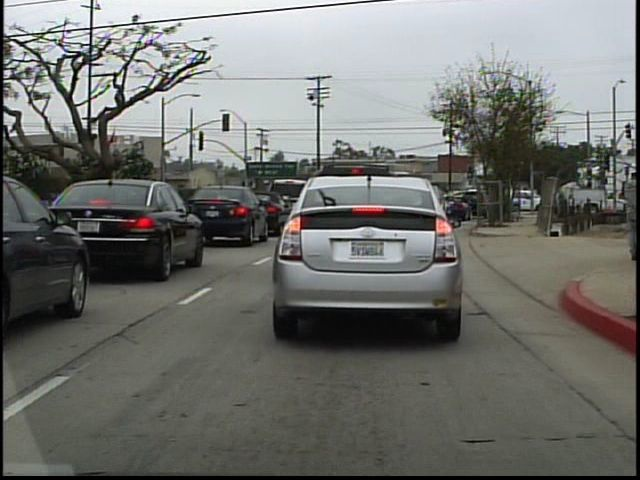person: (617, 159, 638, 265)
